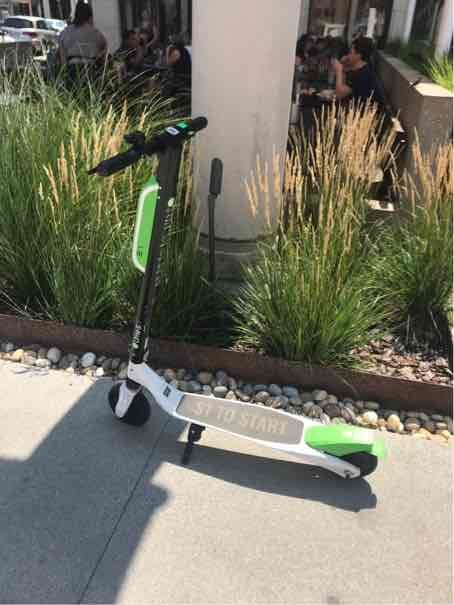scooter: (72, 105, 388, 487)
